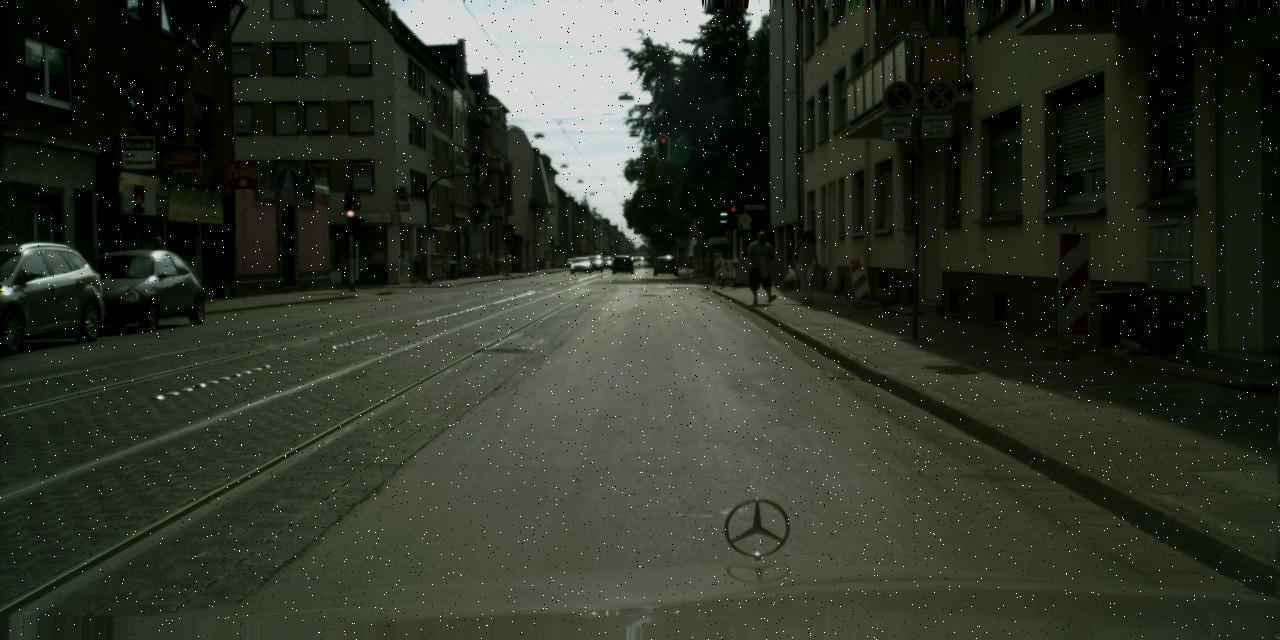ped: (793, 230, 823, 302), (748, 230, 776, 301), (146, 237, 173, 304), (418, 253, 430, 283), (411, 255, 422, 282)
